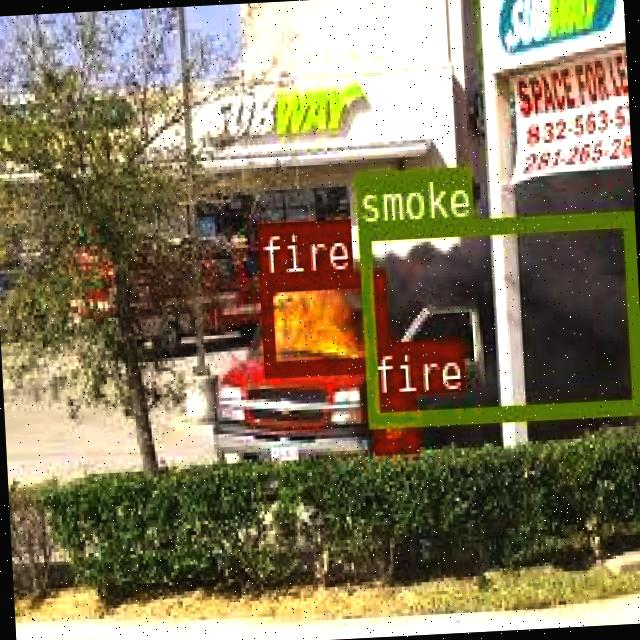fire: (259, 270, 387, 374), (372, 393, 416, 452)
smoke: (358, 208, 640, 423)
